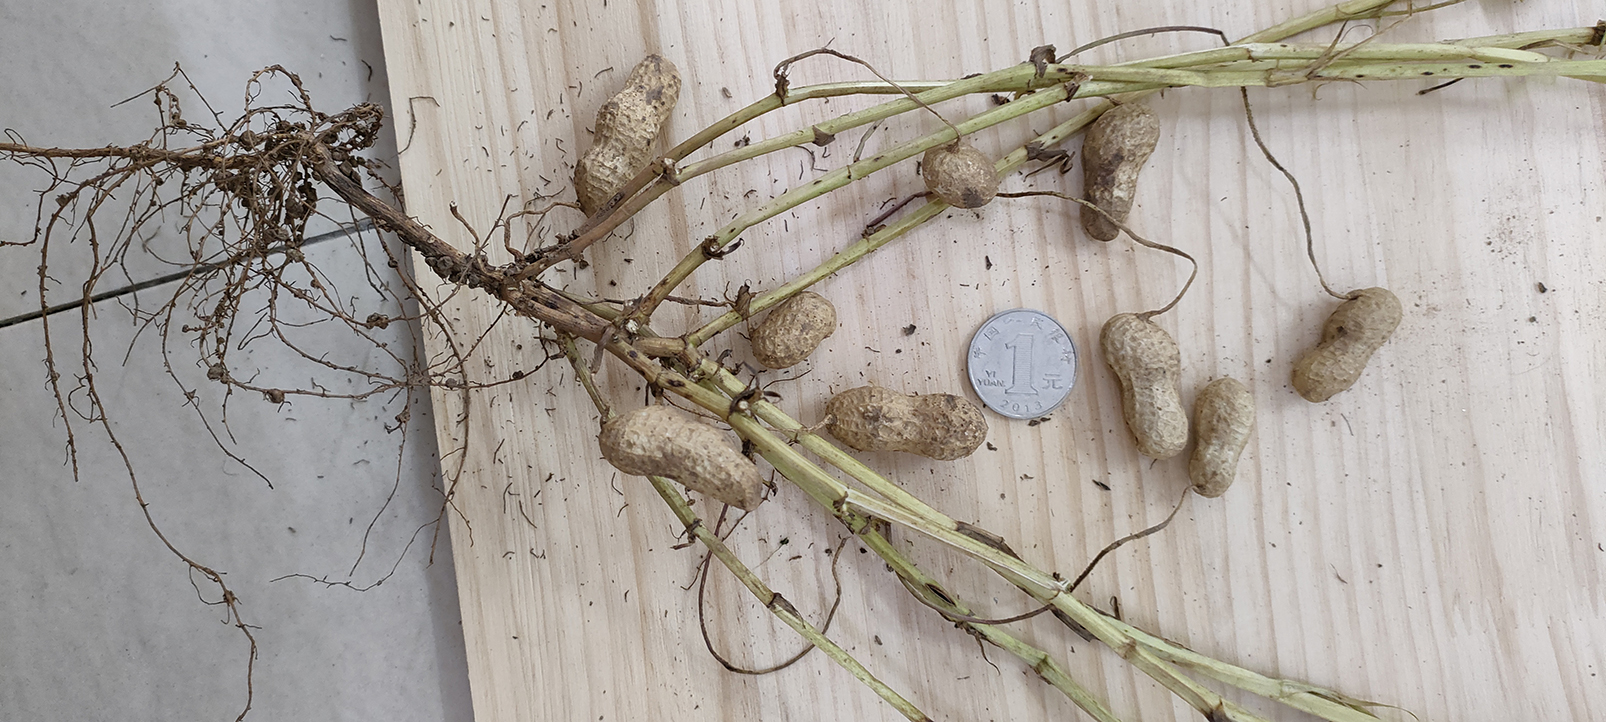h: (572, 52, 683, 217), (600, 404, 762, 514), (1099, 312, 1188, 456), (825, 388, 987, 460), (1186, 376, 1255, 499), (750, 290, 839, 370), (921, 141, 997, 209)
l: (1291, 288, 1403, 401), (1081, 102, 1161, 242)
